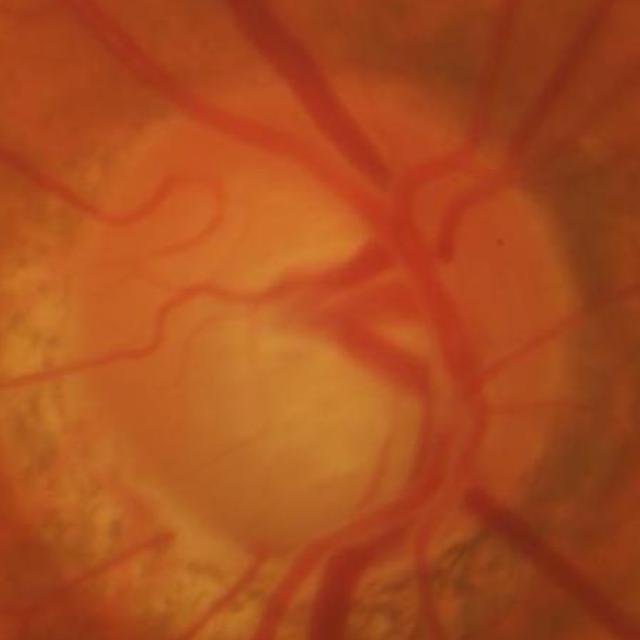OC: (230, 215, 444, 473)
OD: (71, 77, 574, 555)
